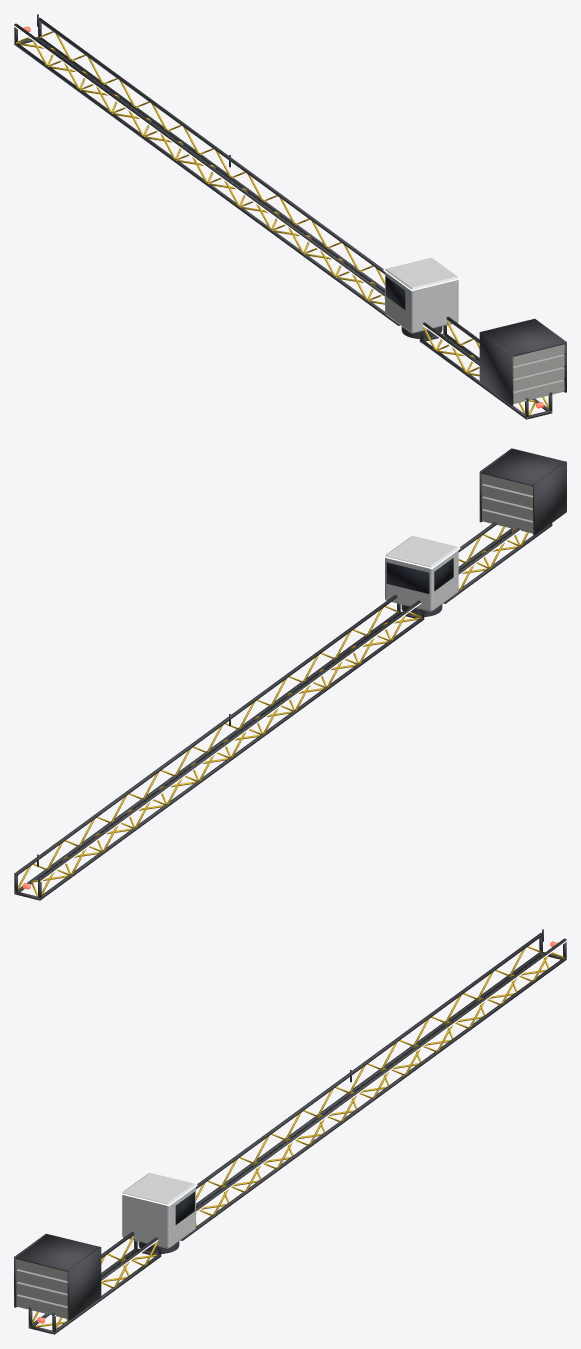
File: prop_crane_jib.glb
3 renders of one model, top to bottom at view 1: azimuth 30°, elevation 25°; view 2: azimuth 150°, elevation 25°; view 3: azimuth 330°, elevation 25°, orthographic.
Visible parts, largest first — view 1: crane_jib; view 2: crane_jib; view 3: crane_jib.
Part boxes in pixels (x1=…): crane_jib: x1=14, y1=14, x2=566, y2=419; crane_jib: x1=14, y1=448, x2=566, y2=900; crane_jib: x1=14, y1=929, x2=566, y2=1334.
Bounding box in the file's own units: 3 × 3.5 × 48.3.
